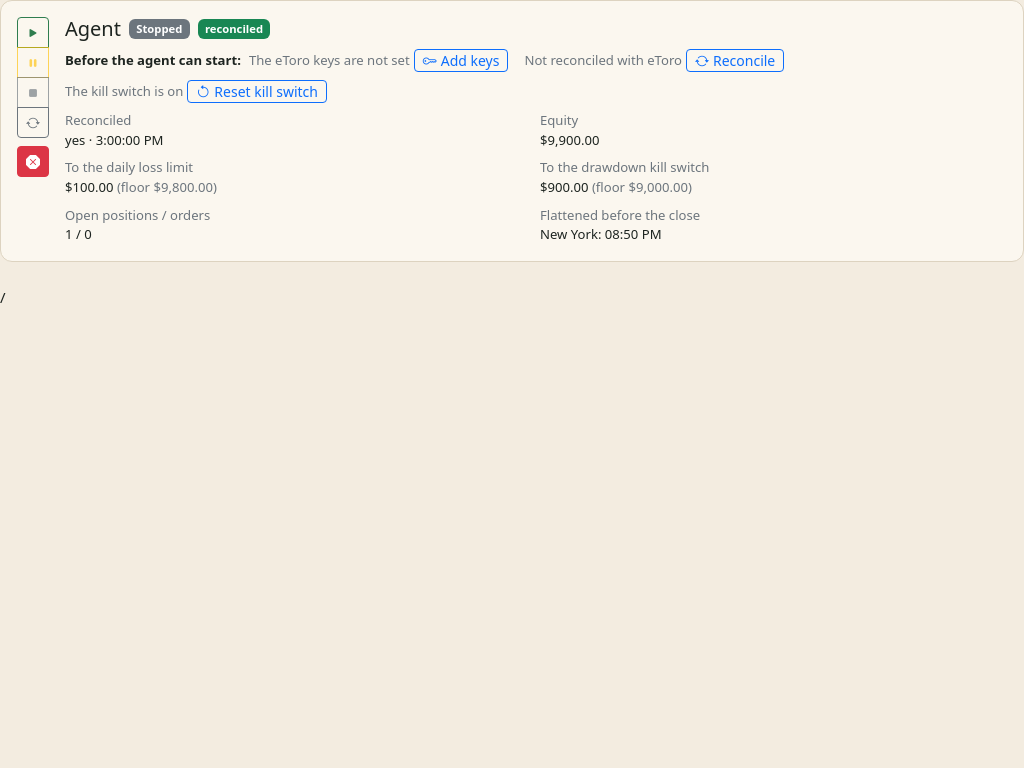
Test: AgentPanel missing setup (R22) › links the keys of this account and runs reconcile and the reset dialog in the panel
This screenshot has width=1024, height=768.
What coordinates should you click on to do the following:
click the button with aria-label "Reconcile:"
I would click on:
 (735, 60)
Its box is [686,49,784,72].
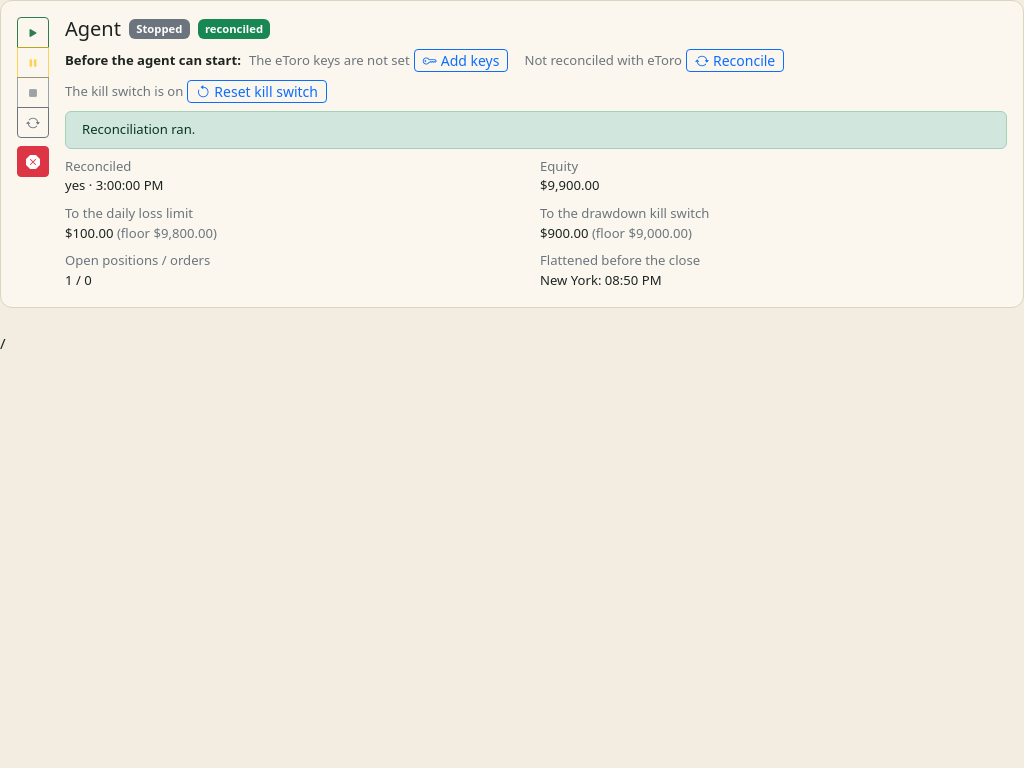
What coordinates should you click on to do the following:
click the button "Reset kill switch"
I would click on:
 (257, 92)
Its box is [187,80,327,103].
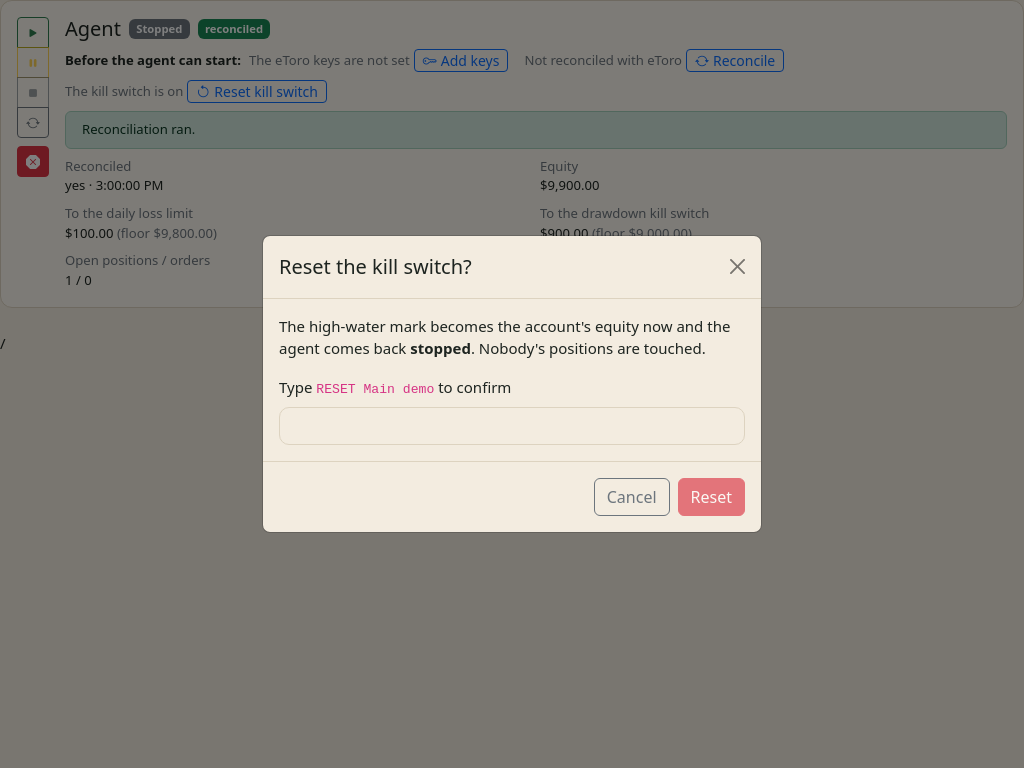
Expected: the dialog "Reset the kill switch?" is shown, [262,235,762,533]
